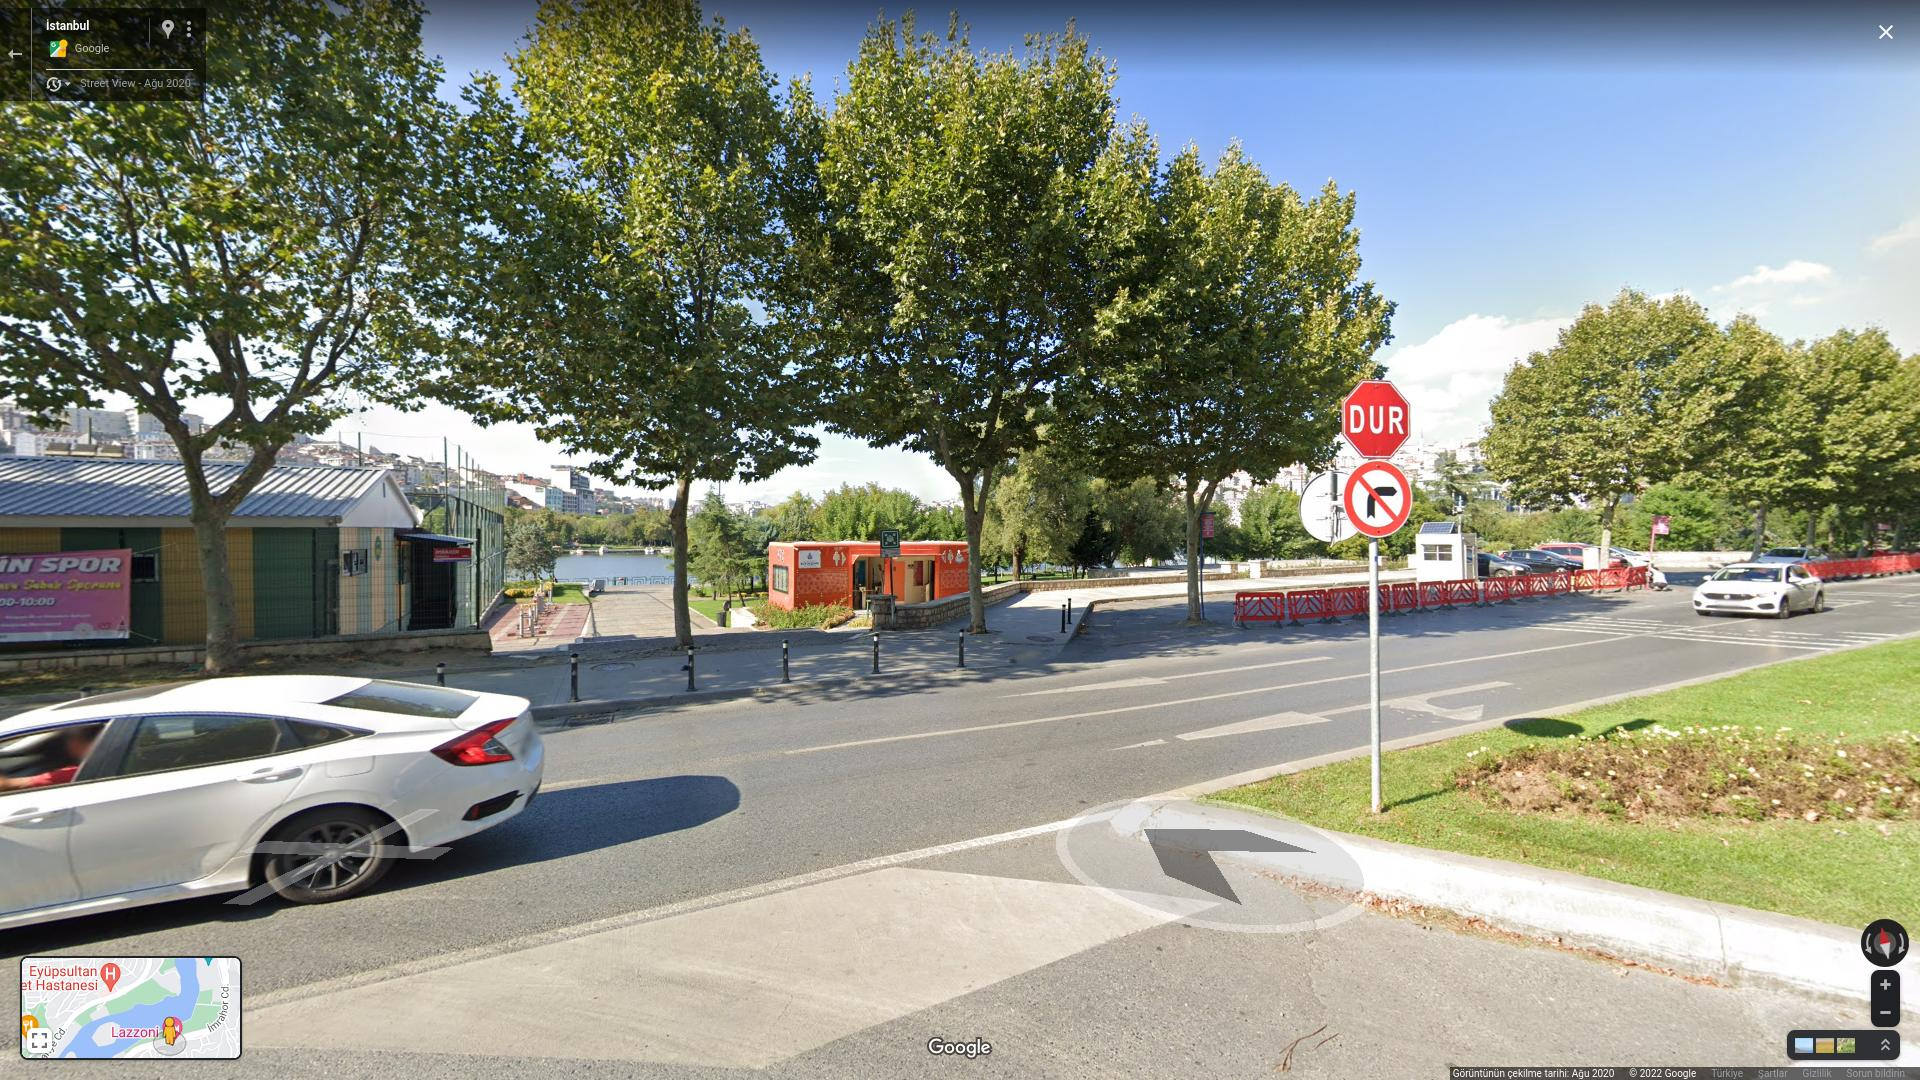rightturnsareforbidden: (1345, 463, 1412, 538)
stop: (1344, 382, 1411, 458)
